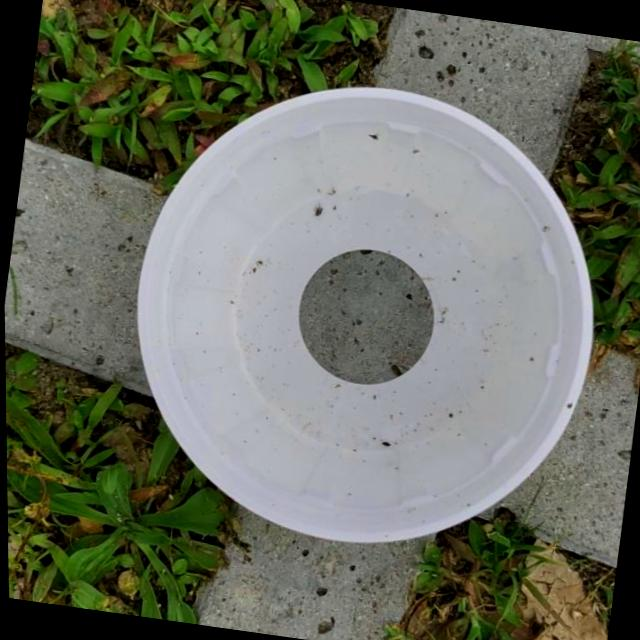Paper: (95, 46, 629, 578)
